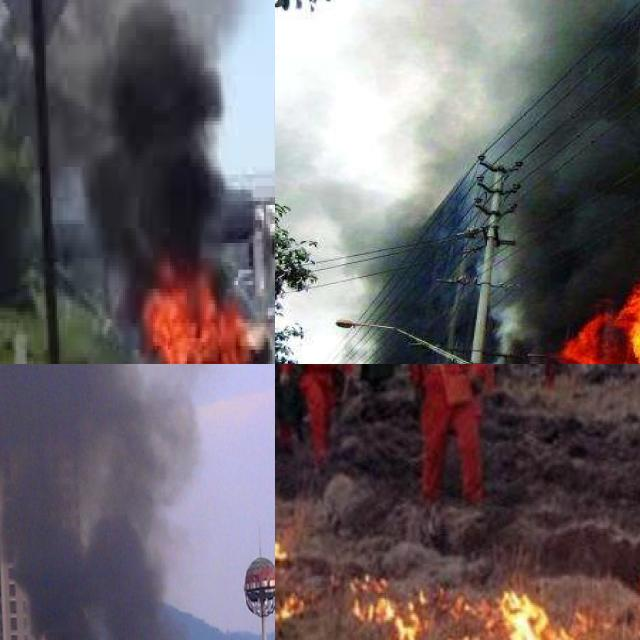fire: (131, 250, 253, 364), (491, 271, 640, 364), (337, 576, 469, 640), (497, 593, 630, 640)
smoke: (423, 0, 640, 362), (0, 364, 199, 640), (44, 0, 238, 269), (275, 106, 456, 364)
